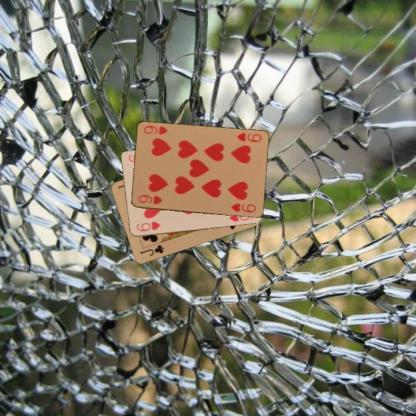6h: (134, 219, 162, 233)
9h: (134, 192, 164, 206), (233, 130, 262, 144)
Jc: (138, 242, 166, 257)
